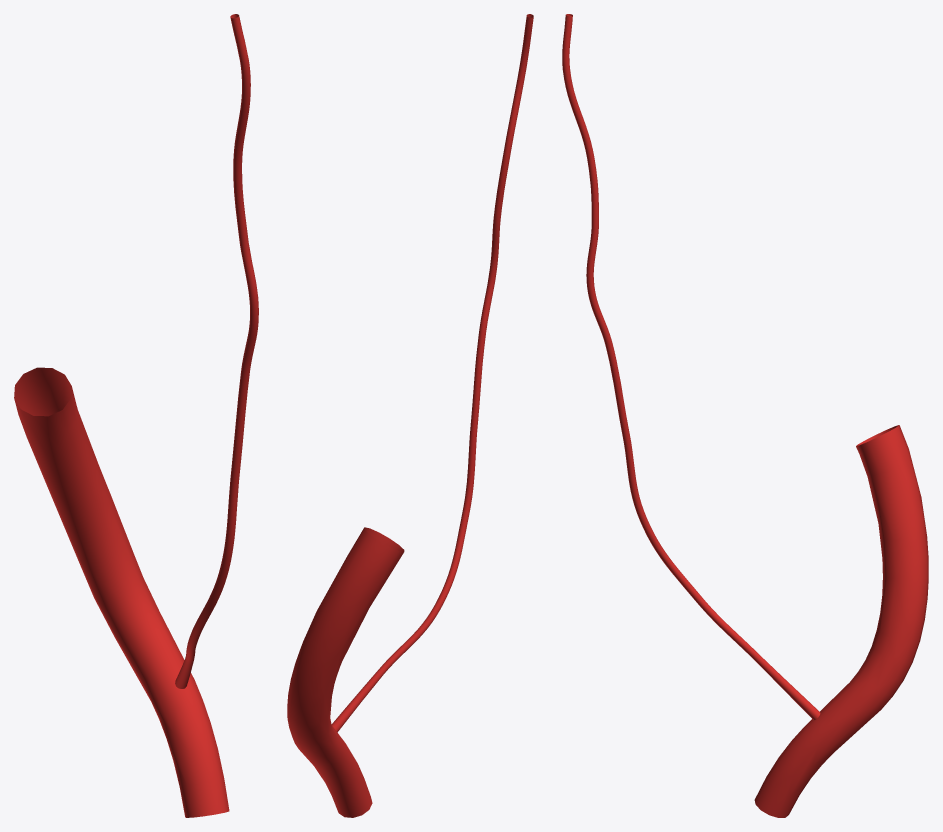
Rendered from circulatorio-external-iliac-vein-l.glb.
3 renders of one model, left to right at view 1: azimuth 30°, elevation 25°; view 2: azimuth 150°, elevation 25°; view 3: azimuth 270°, elevation 25°, orthographic. The views are drawn at different scales.
Parts seen in each view (by area): view 1: External iliac vein.l, Inferior epigastric vein.l; view 2: External iliac vein.l, Inferior epigastric vein.l; view 3: External iliac vein.l, Inferior epigastric vein.l.
Part boxes in pixels (bbox=[...]): External iliac vein.l: bbox=[14, 367, 229, 817]; Inferior epigastric vein.l: bbox=[175, 14, 258, 688]; External iliac vein.l: bbox=[287, 527, 404, 817]; Inferior epigastric vein.l: bbox=[331, 14, 533, 732]; External iliac vein.l: bbox=[754, 425, 928, 817]; Inferior epigastric vein.l: bbox=[562, 14, 820, 720].
Bounding box in the file's own units: 0.0374 × 0.2234 × 0.0975.
